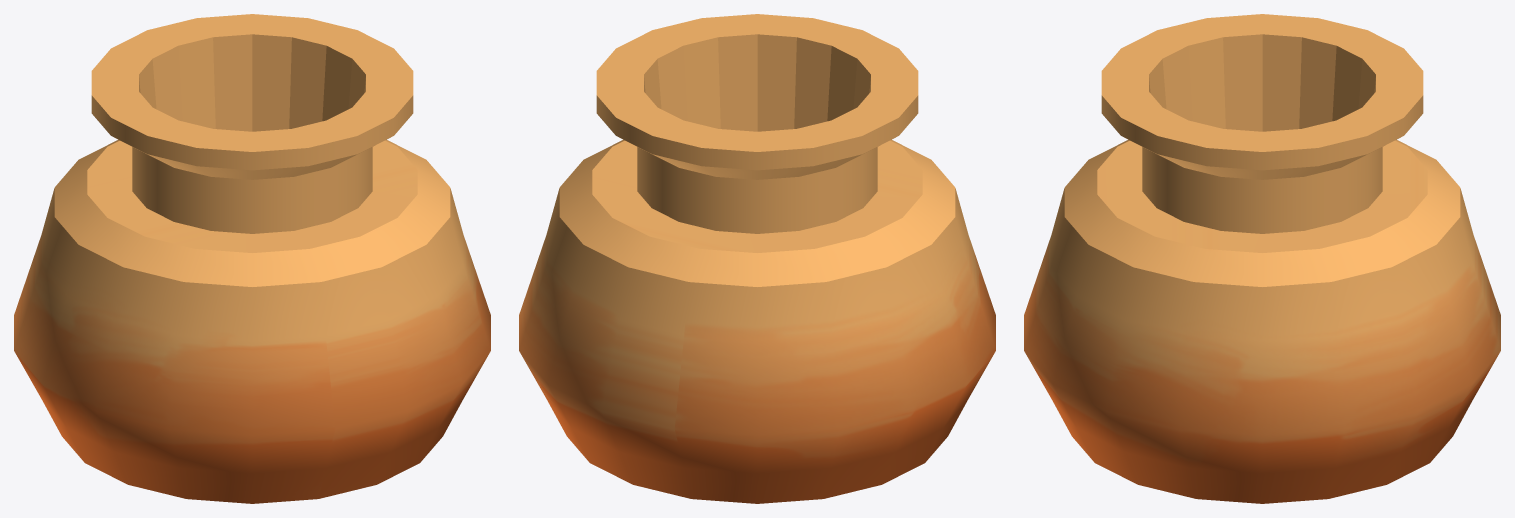
The model's file is m_round_pot_big.FBX.
3 renders of one model, left to right at view 1: azimuth 30°, elevation 25°; view 2: azimuth 150°, elevation 25°; view 3: azimuth 270°, elevation 25°, orthographic.
Visible parts, largest first — view 1: pot_1; view 2: pot_1; view 3: pot_1.
Boxes of the visible parts, <box> form: pot_1: <box>14,14,490,503</box>; pot_1: <box>519,14,995,503</box>; pot_1: <box>1024,14,1500,503</box>.
Bounding box in the file's own units: 30.64 × 23.67 × 30.17.
